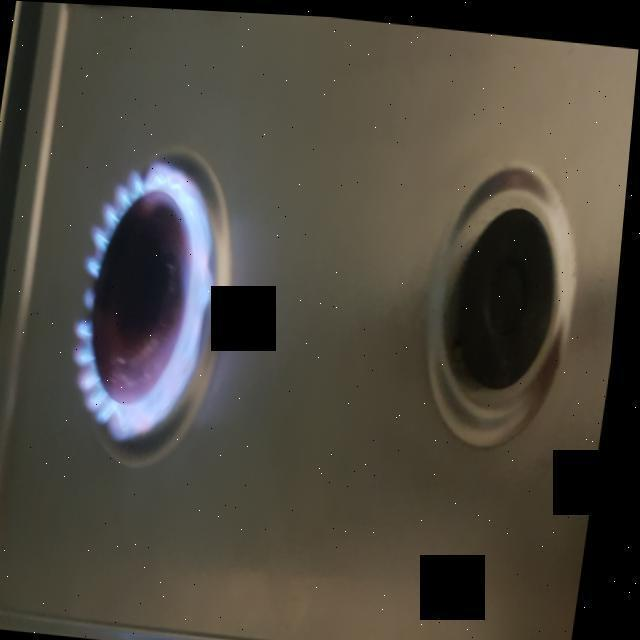Flame: (68, 162, 248, 456)
